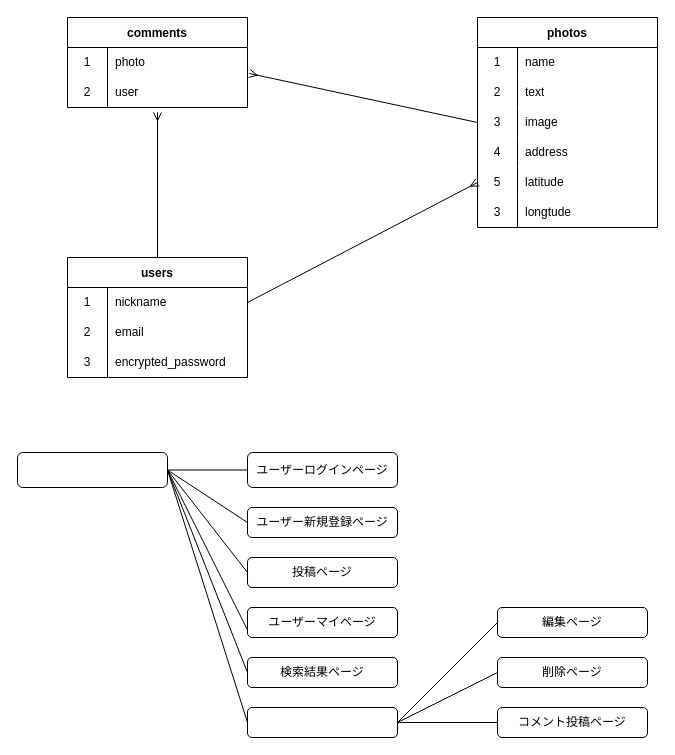
This 675x755 diagram has some shape labels left out. The centre of each missing label's shape, as x and y in pixels:
"一覧ページ" belongs at point 92,470.
"詳細ページ" belongs at point 322,722.
